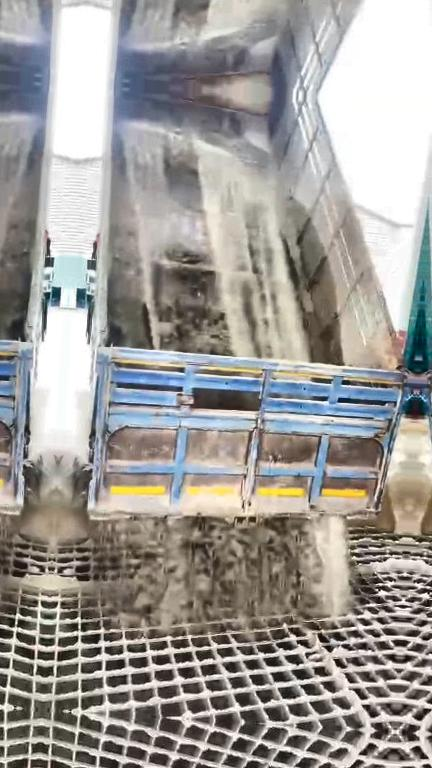sand: (52, 465, 350, 629), (107, 124, 305, 359), (376, 469, 411, 534), (50, 561, 77, 588)
